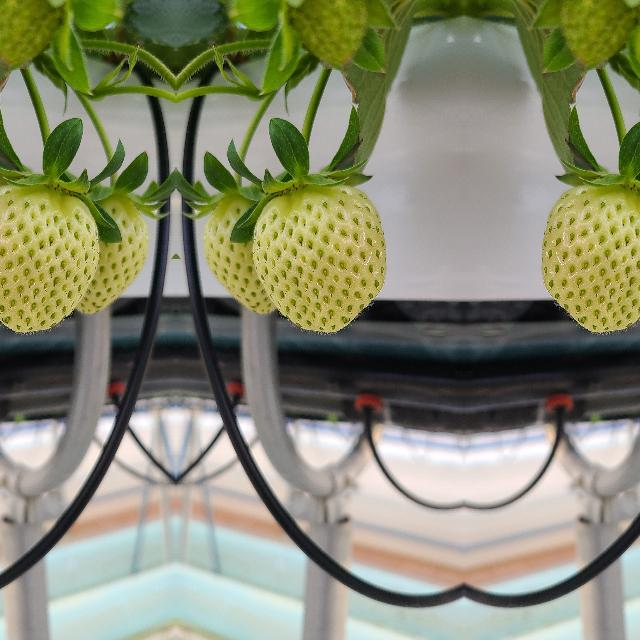Health_25: (252, 184, 384, 332), (541, 184, 640, 332), (0, 184, 98, 332), (61, 183, 152, 319), (198, 183, 288, 319)
